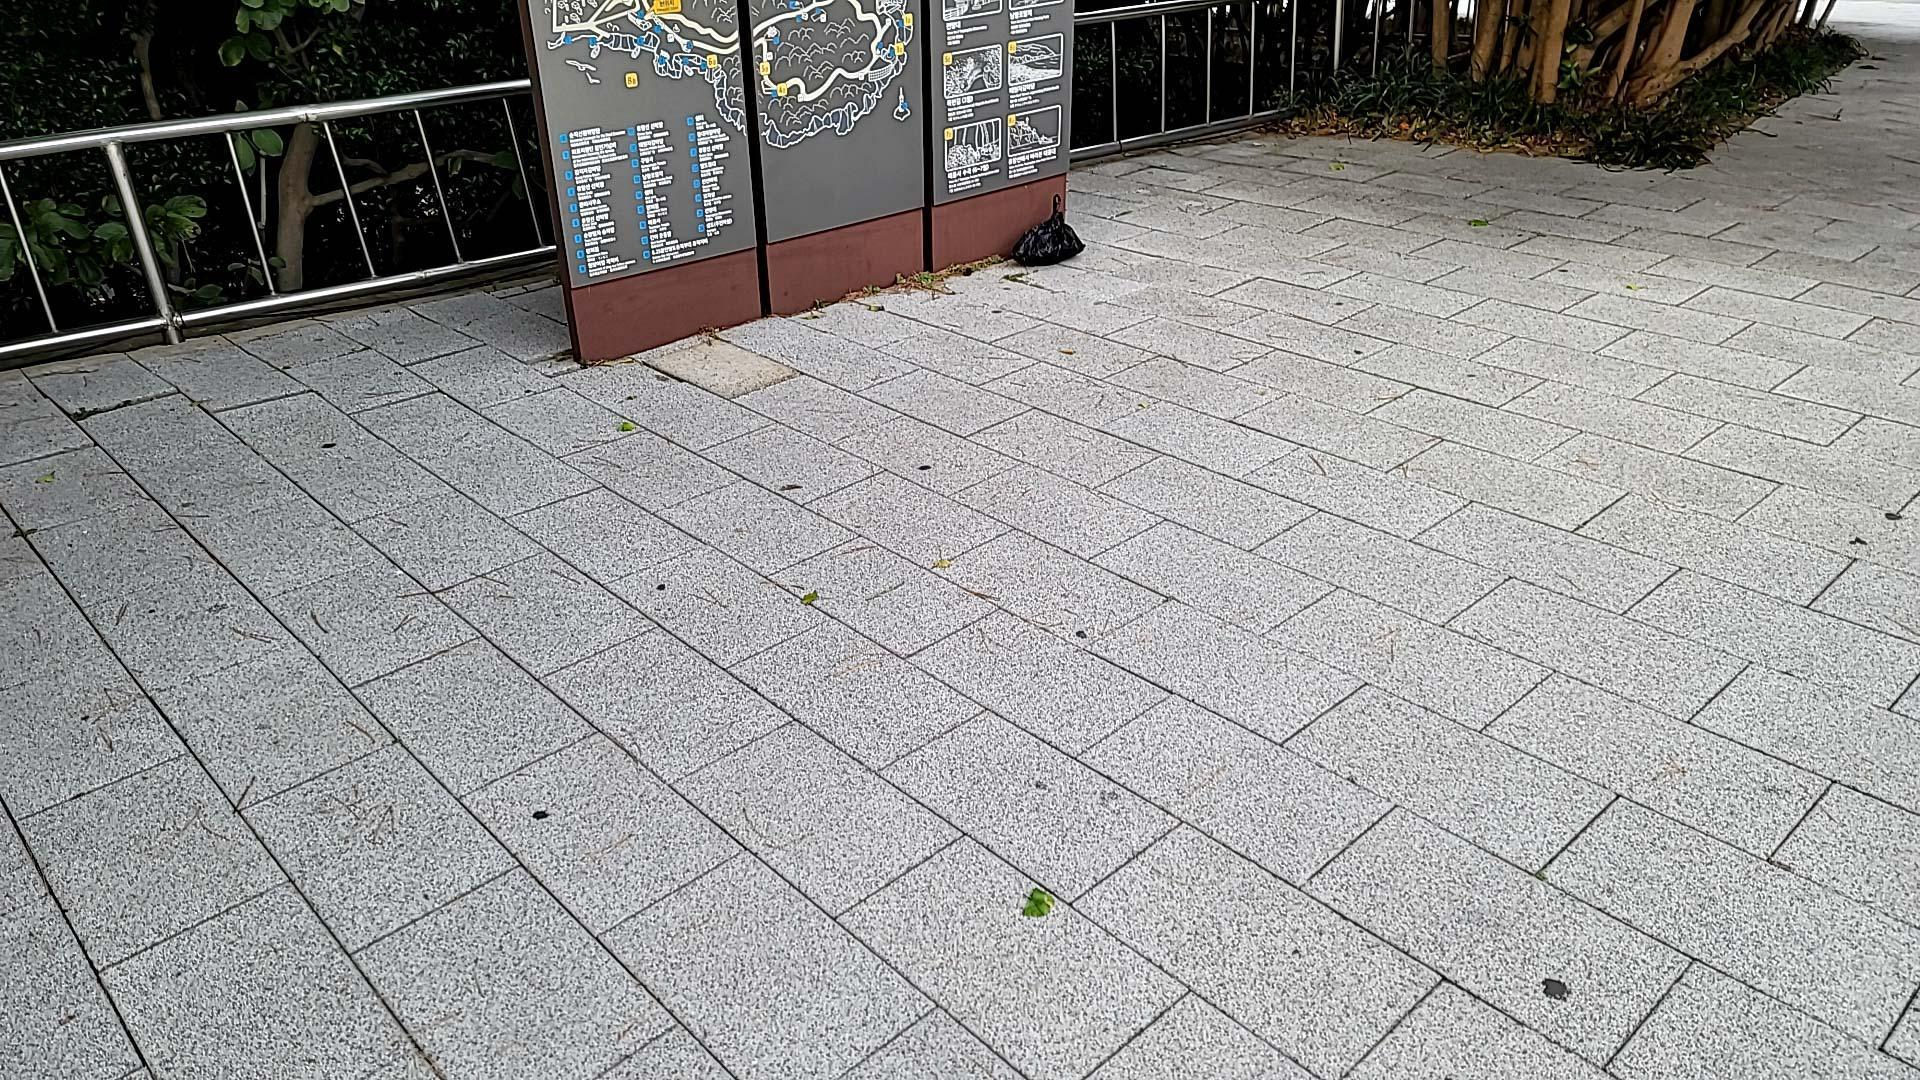black_bag: (1002, 191, 1089, 268)
